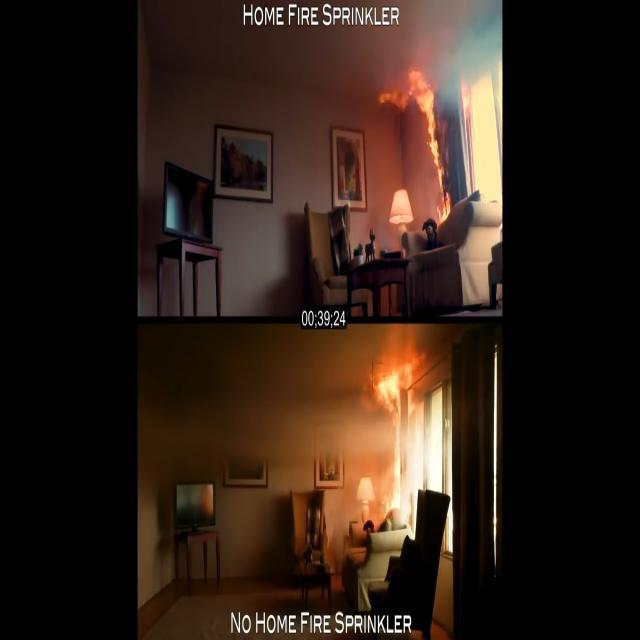Fire: (372, 37, 508, 330)
